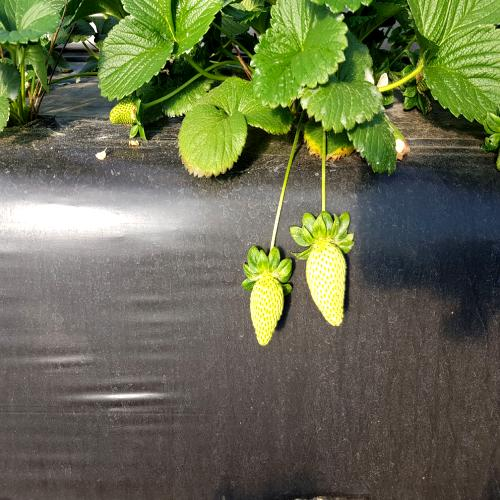unripe: (304, 237, 353, 335), (249, 273, 287, 351)
